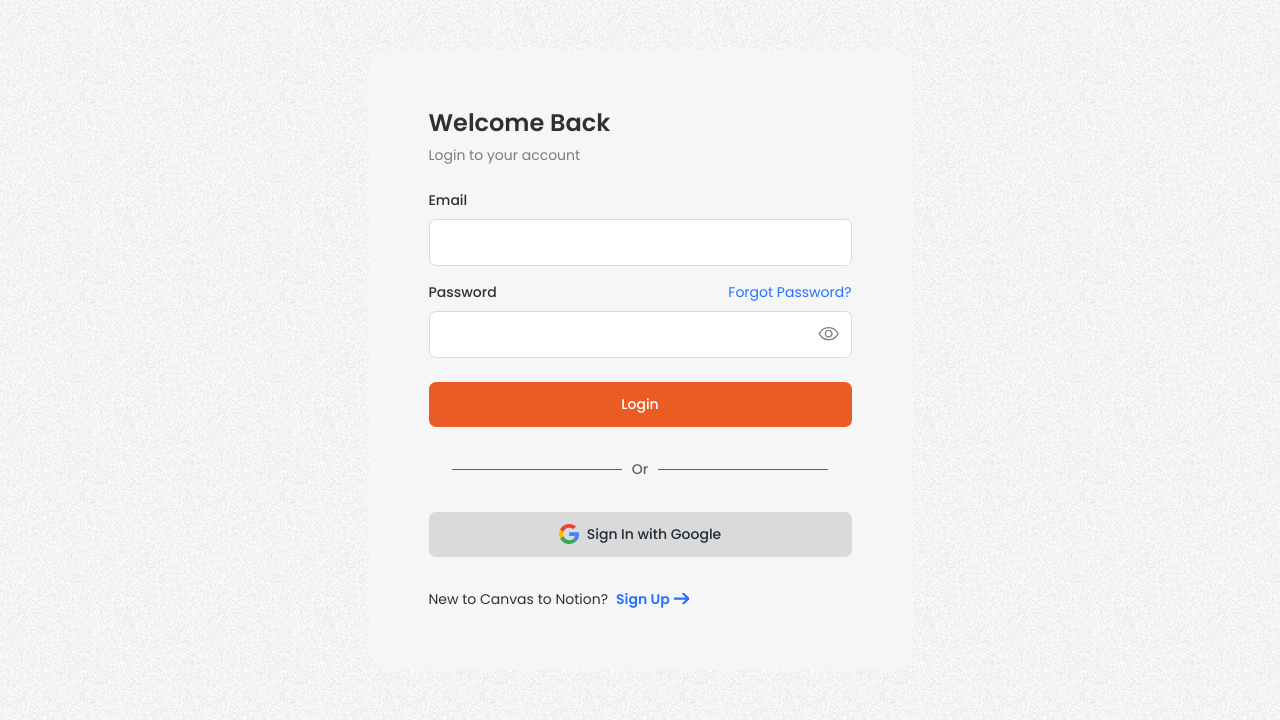
Scenario: Login Component › displays loading state during form submission
Note: Fill out form
In the field labelled "Email": (640, 242) [428,219,852,266], type "test@example.com"
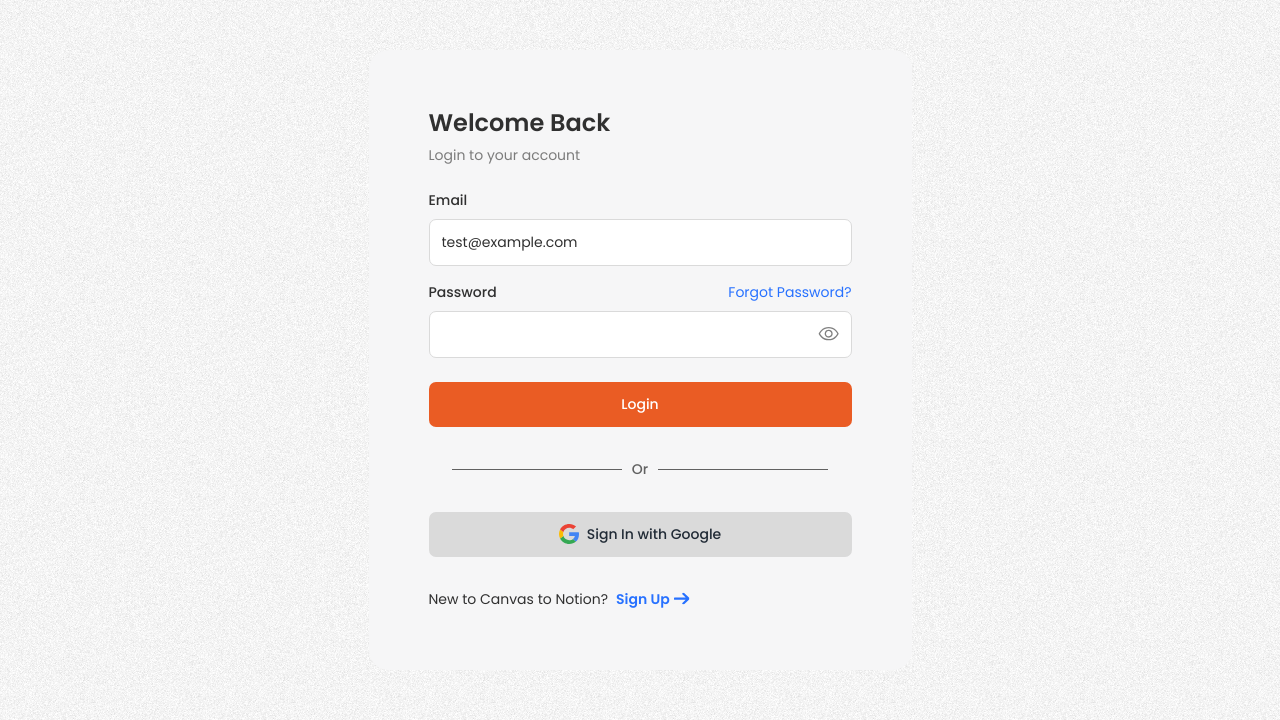
In the password field named "password": (640, 334) [428,311,852,358], type "password123"
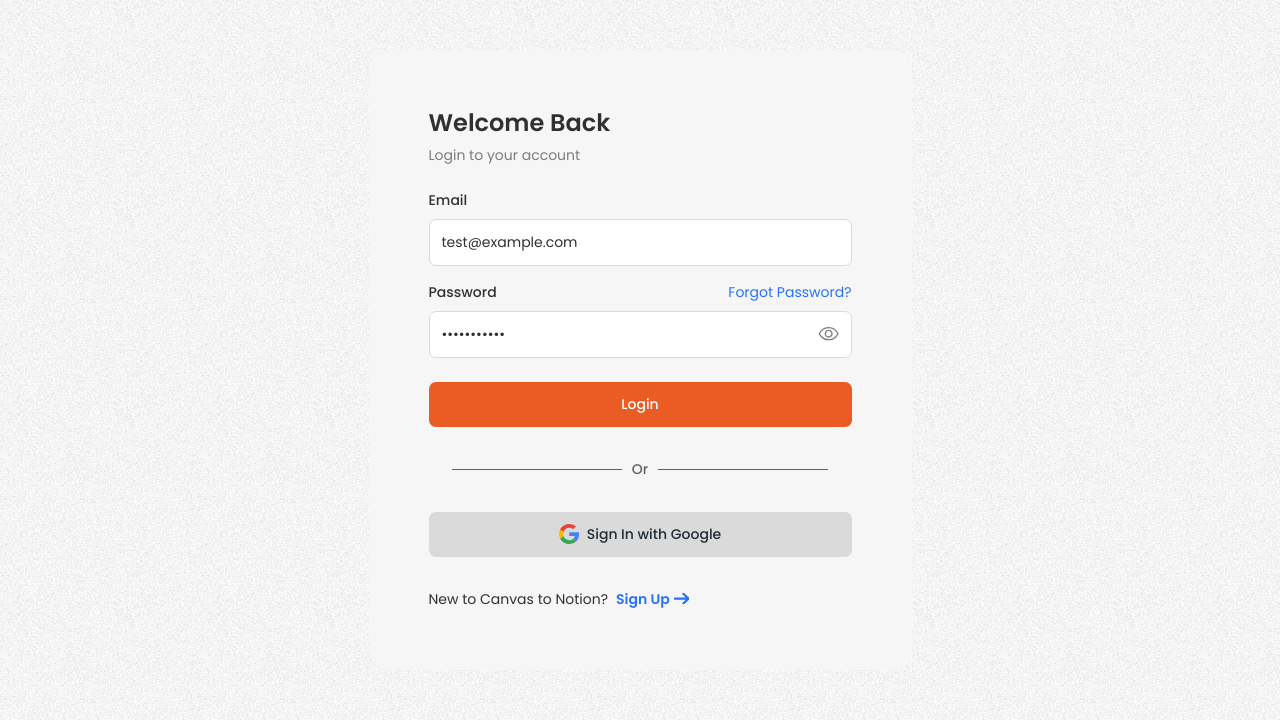
Note: Submit the form
Click the submit button: (640, 404) [428,382,852,427]
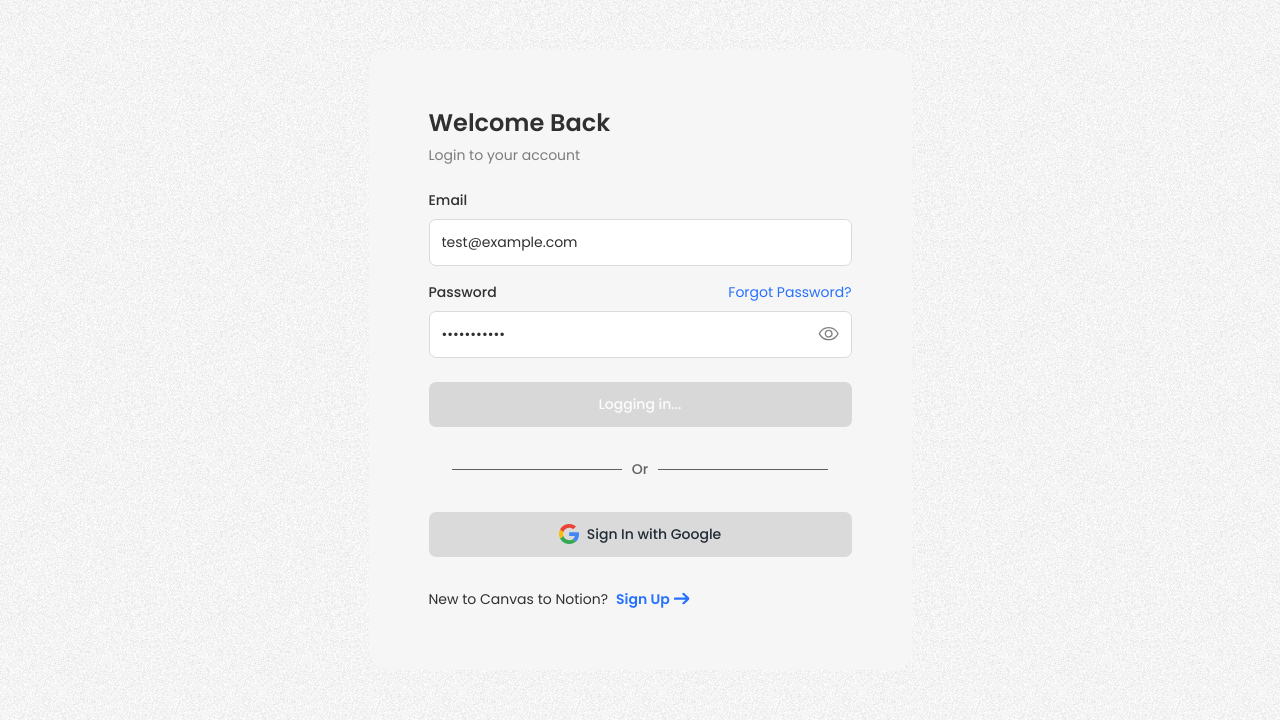
expect the submit button reads "Logging in...": met, box [428,382,852,427]
expect the submit button is disabled: met, box [428,382,852,427]
